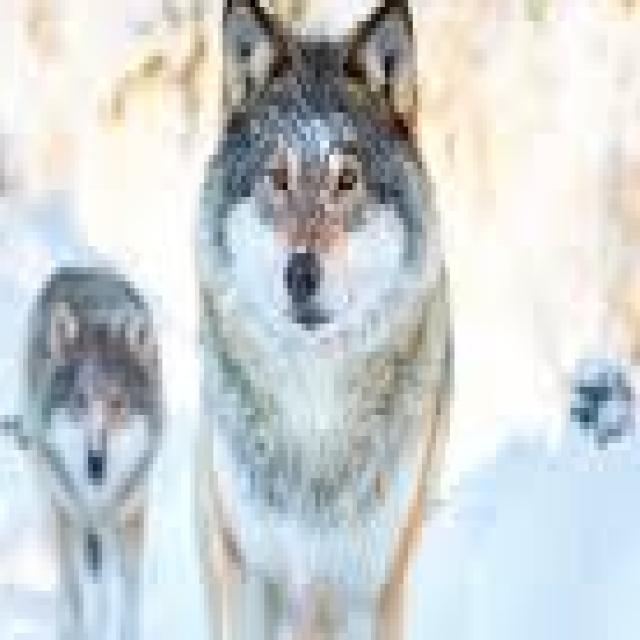wolf: (176, 0, 468, 640), (28, 260, 162, 640)
